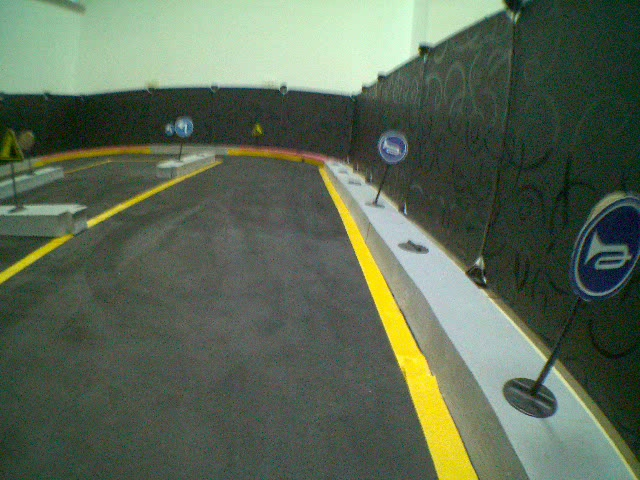fast: (1, 128, 27, 162), (251, 121, 265, 138)
horn: (571, 191, 640, 305), (377, 130, 408, 164)
turn: (174, 116, 195, 138)
